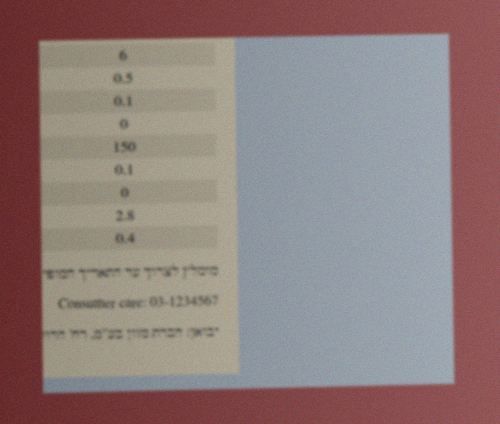carbs: (113, 160, 136, 179)
energy: (117, 46, 129, 65)
fat: (112, 69, 135, 88)
protein: (114, 229, 137, 248)
